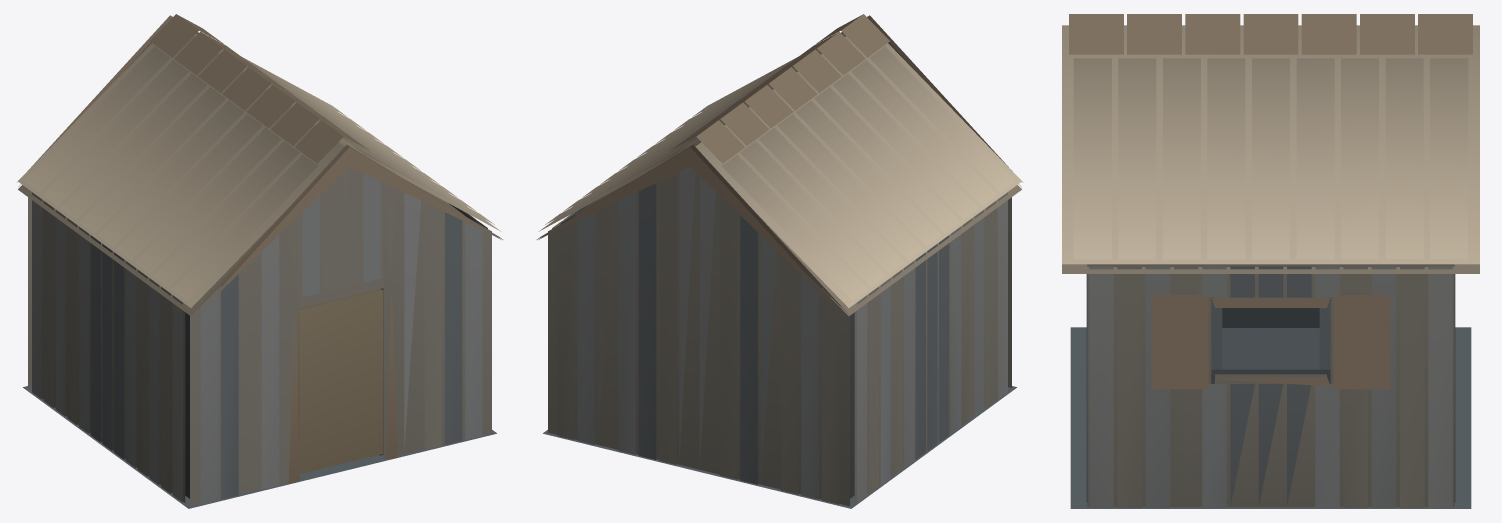
Rendered from shed.lod.glb.
The picture shows the model from 3 angles, left to right: view 1: azimuth 30°, elevation 25°; view 2: azimuth 150°, elevation 25°; view 3: azimuth 270°, elevation 25°; orthographic projection. The views are drawn at different scales.
Parts seen in each view (by area): view 1: shed; view 2: shed; view 3: shed.
Boxes of the visible parts, <box> form: shed: <box>17,14,503,508</box>; shed: <box>536,14,1022,508</box>; shed: <box>1062,14,1479,508</box>.
Size of the model in its own units: 3 by 3.09 by 3.
